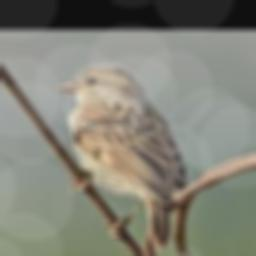Sparrow: (56, 65, 186, 251)
